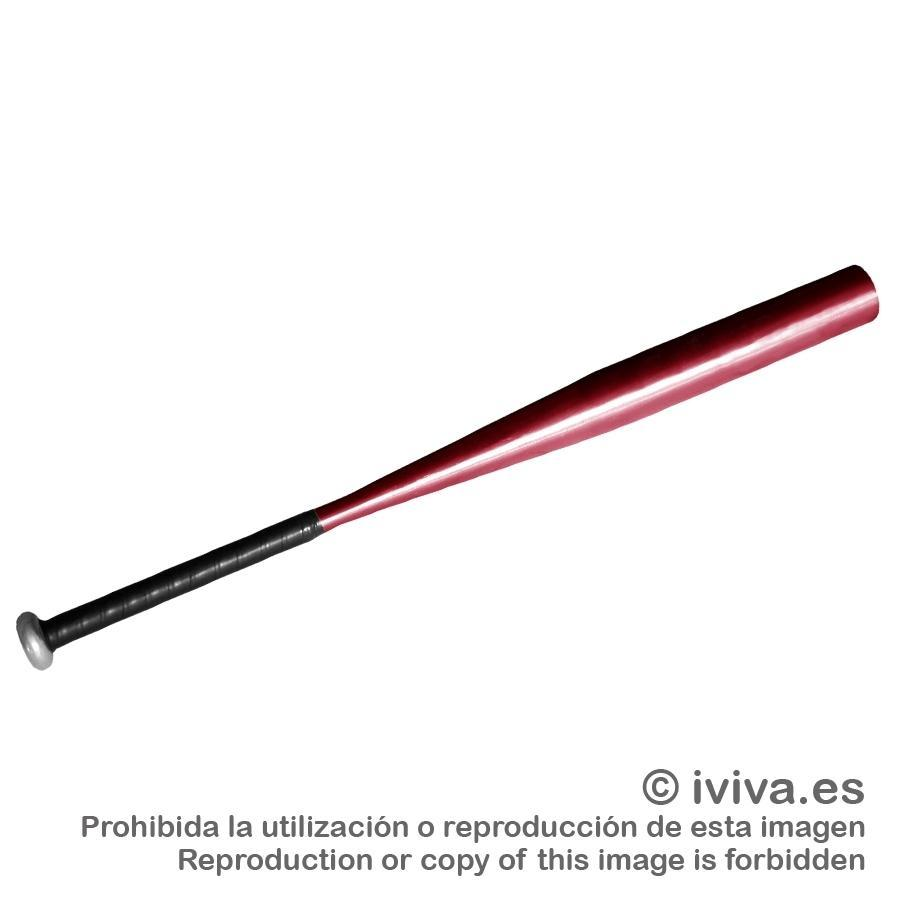Baseball-Bat: (50, 218, 900, 632)
